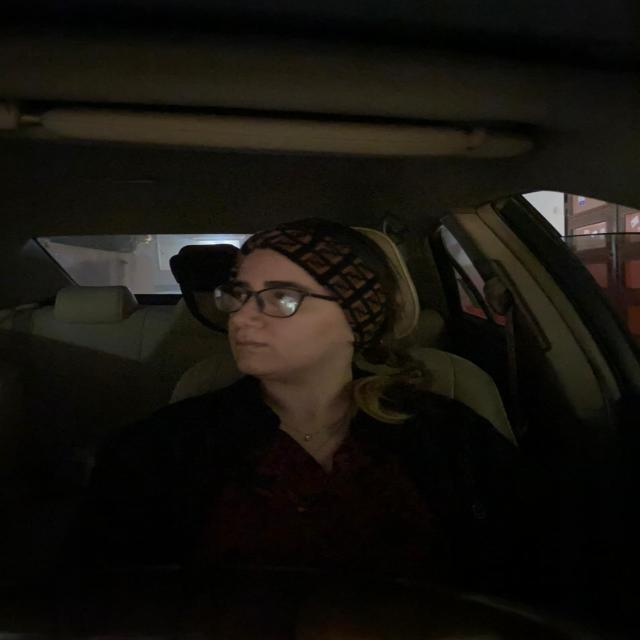LeftRight: (212, 212, 419, 386)
